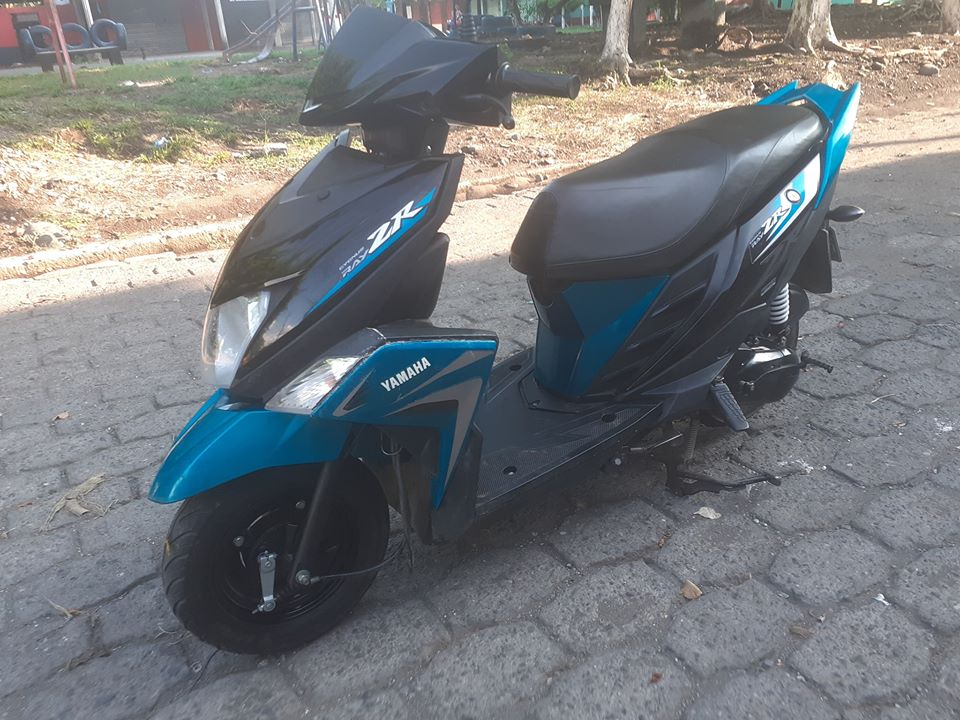moto: (149, 6, 870, 657)
